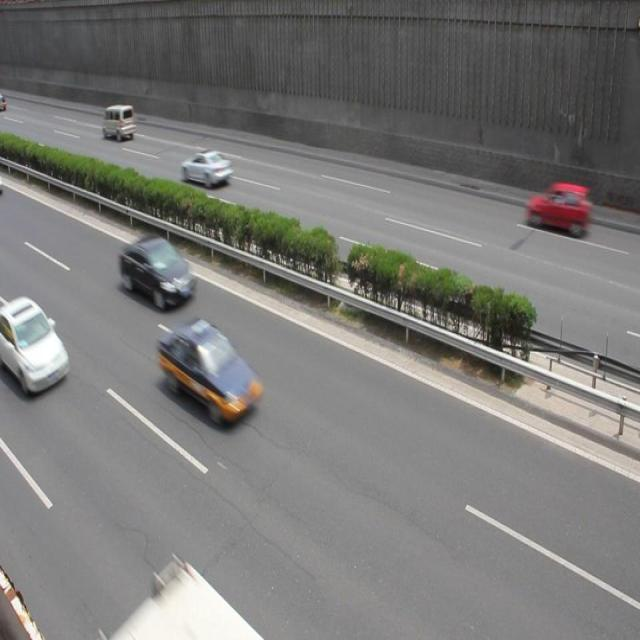car: (158, 318, 265, 428), (0, 294, 70, 396), (119, 234, 197, 312), (523, 182, 591, 238), (180, 148, 232, 189)
truck: (102, 106, 136, 141)
